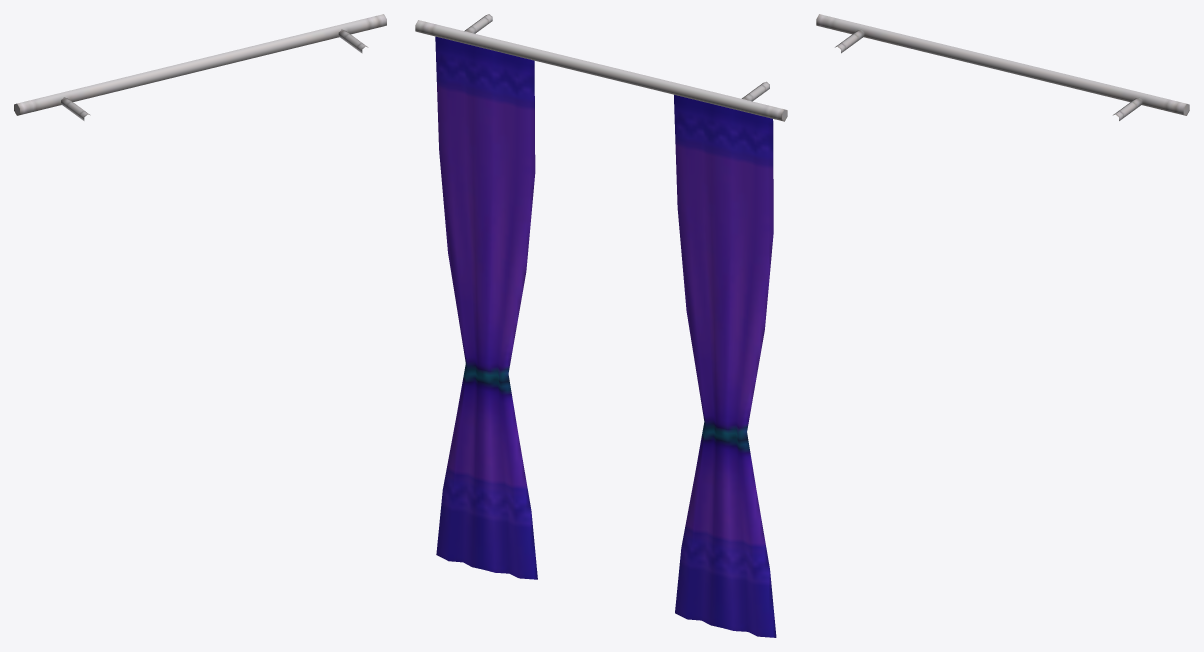
File: Curtain_03.gltf
The picture shows the model from 3 angles, left to right: view 1: azimuth 30°, elevation 25°; view 2: azimuth 150°, elevation 25°; view 3: azimuth 330°, elevation 25°; orthographic projection.
Visible parts, largest first — view 1: Curtain_03; view 2: Curtain_03; view 3: Curtain_03.
Part boxes in pixels (<box>): Curtain_03: <box>14,14,386,120</box>; Curtain_03: <box>415,14,787,637</box>; Curtain_03: <box>816,14,1189,120</box>.
Size of the model in its own units: 46.45 by 64.69 by 6.44.
Materials: 1 (1 with a texture image).
